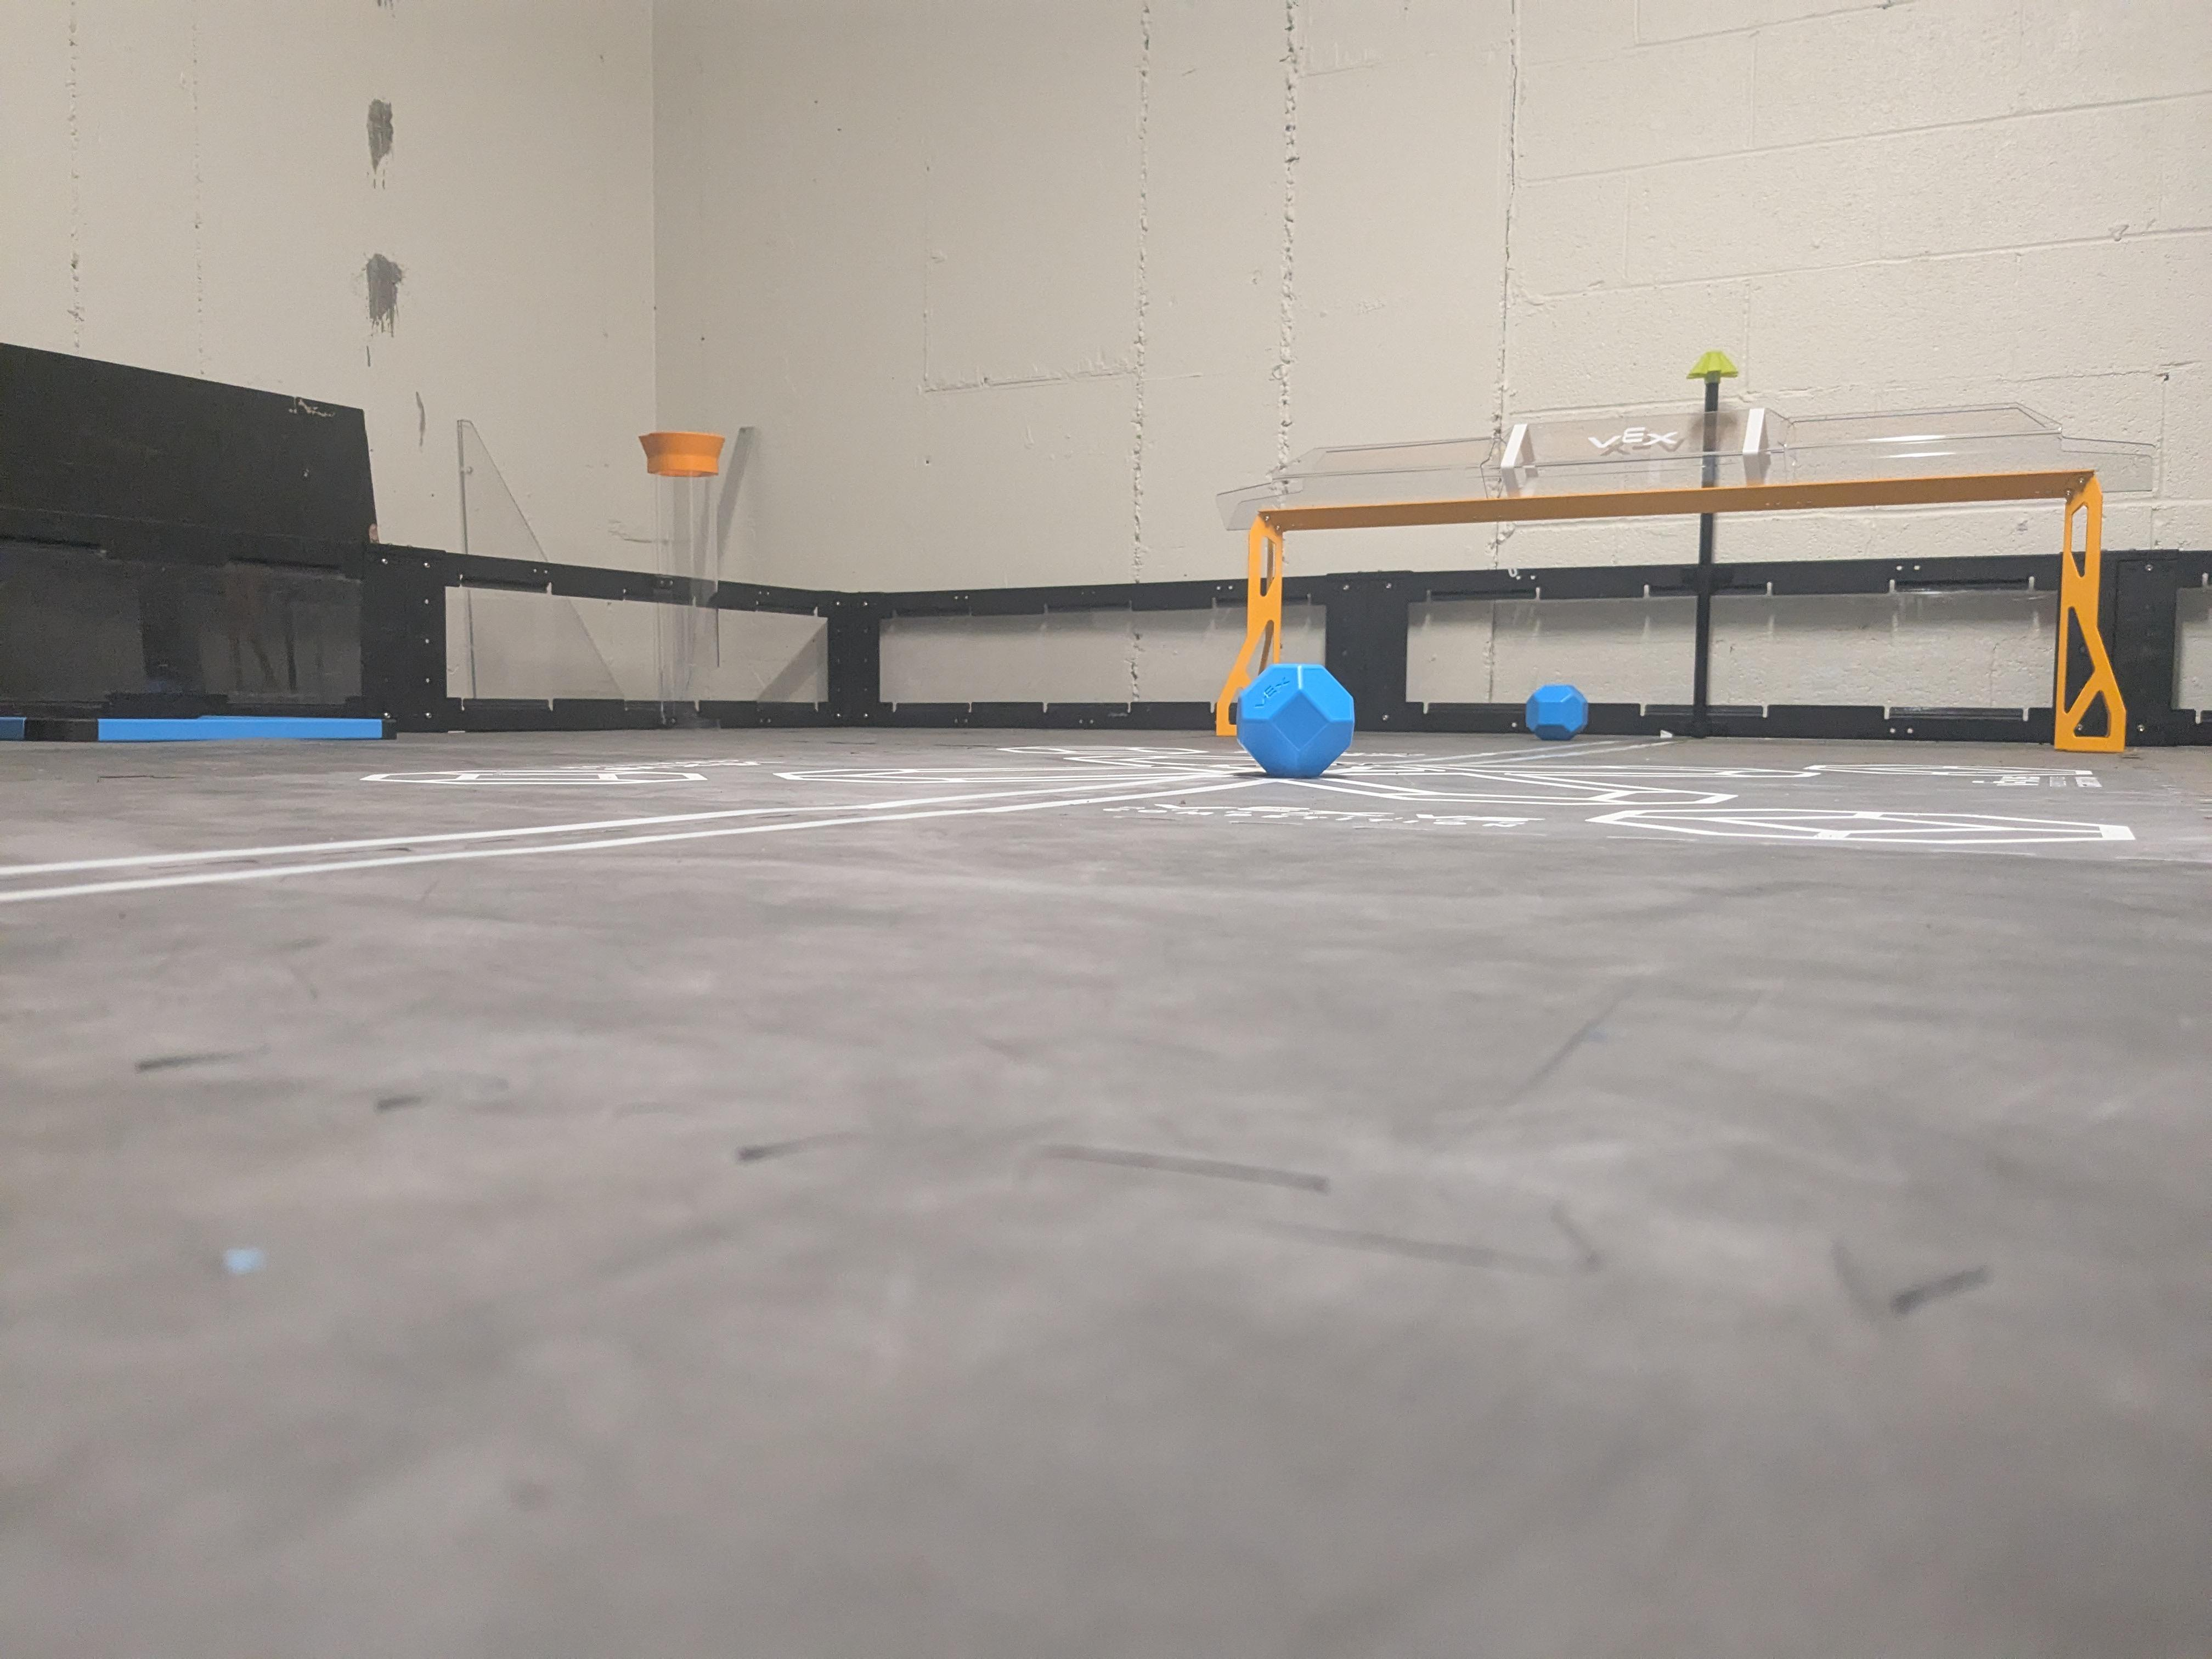Vex-Pieces-BLUE: (1233, 666, 1353, 774), (1524, 687, 1585, 744)
